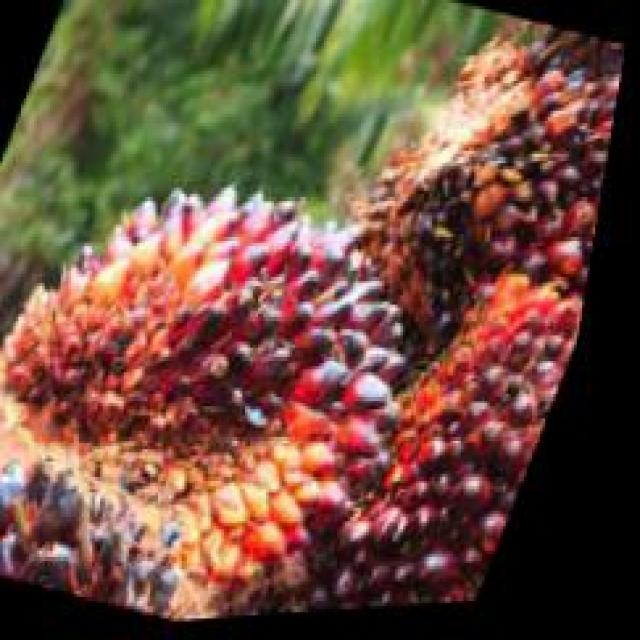Ripefruit: (0, 112, 503, 638), (320, 243, 604, 619), (356, 12, 634, 363)
